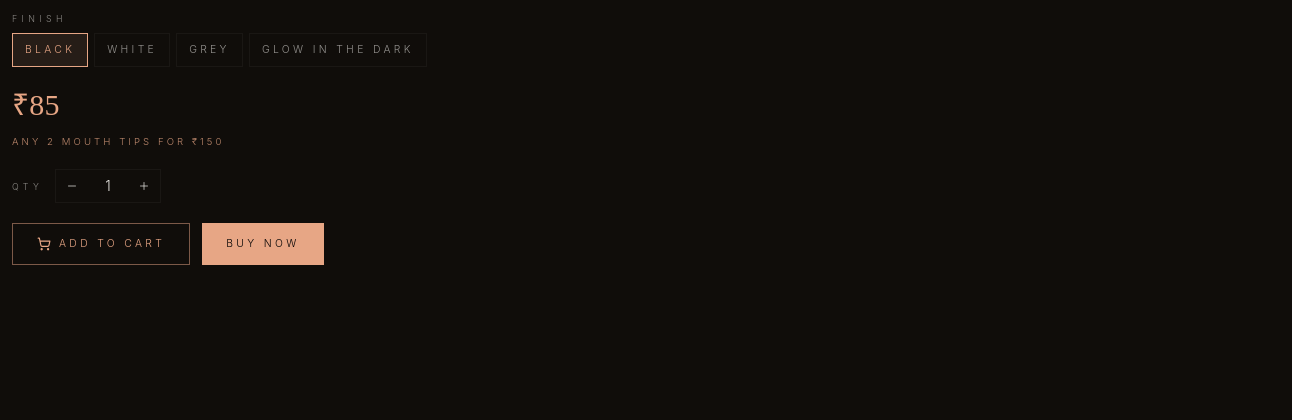
Test: product → cart › lets a signed-out shopper add to a guest cart without signing in
The image size is (1292, 420).
Later steps or results of the test are not shown.
Click the button "Add to Cart".
click(101, 244)  # box [12, 223, 190, 265]
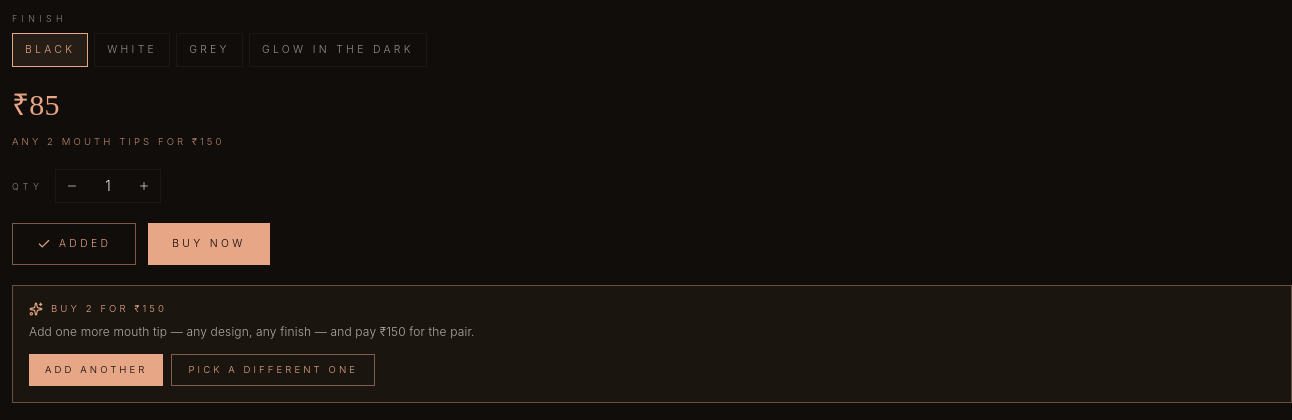
expect the text "Buy 2 for ₹150" is shown: met, box [29, 302, 167, 316]
